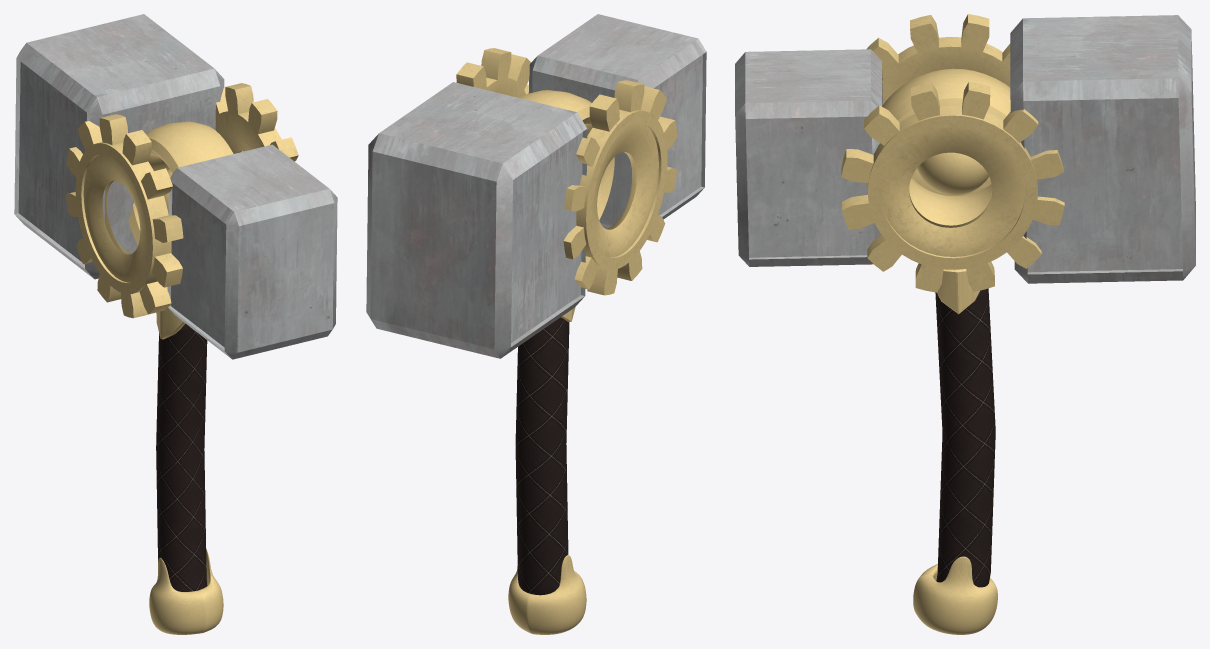
The model's file is Avelyn.fbx.
The picture shows the model from 3 angles, left to right: view 1: azimuth 30°, elevation 25°; view 2: azimuth 150°, elevation 25°; view 3: azimuth 270°, elevation 25°; orthographic projection. The views are drawn at different scales.
Parts seen in each view (by area): view 1: Mace, Handle, Pommel Holder, Pommel bottom; view 2: Mace, Handle, Pommel bottom, Pommel Holder; view 3: Mace, Handle, Pommel Holder, Pommel bottom, Center Sphere.
Part boxes in pixels (<box>): Mace: <box>14,14,337,359</box>; Handle: <box>156,323,207,591</box>; Pommel Holder: <box>128,121,233,339</box>; Pommel bottom: <box>149,549,223,634</box>; Mace: <box>366,14,706,358</box>; Handle: <box>515,317,569,595</box>; Pommel bottom: <box>508,555,586,634</box>; Pommel Holder: <box>520,90,614,321</box>; Mace: <box>735,14,1195,292</box>; Handle: <box>935,288,995,587</box>; Pommel Holder: <box>882,68,1010,314</box>; Pommel bottom: <box>913,556,997,634</box>; Center Sphere: <box>917,152,988,195</box>.
Bounding box in the file's own units: 21.36 × 72.97 × 52.76.
